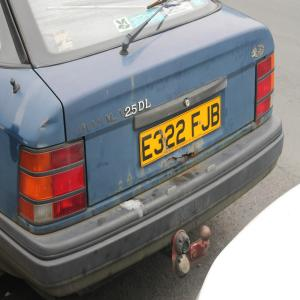Vehicle-registration-plate: (142, 110, 205, 164)
